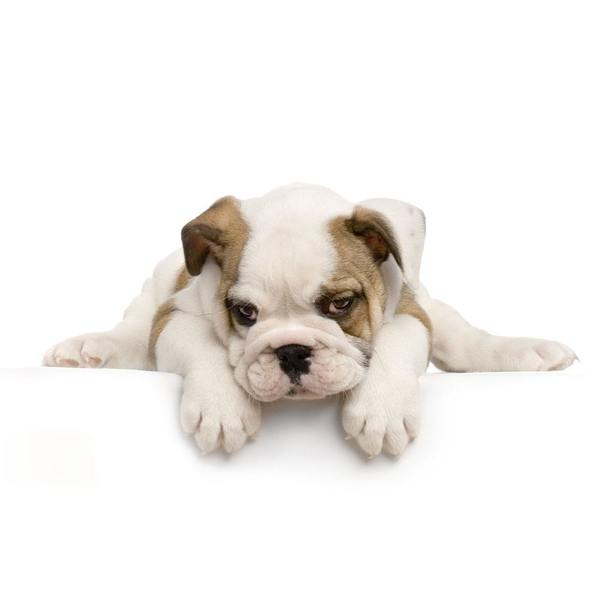dog: (162, 159, 458, 403)
